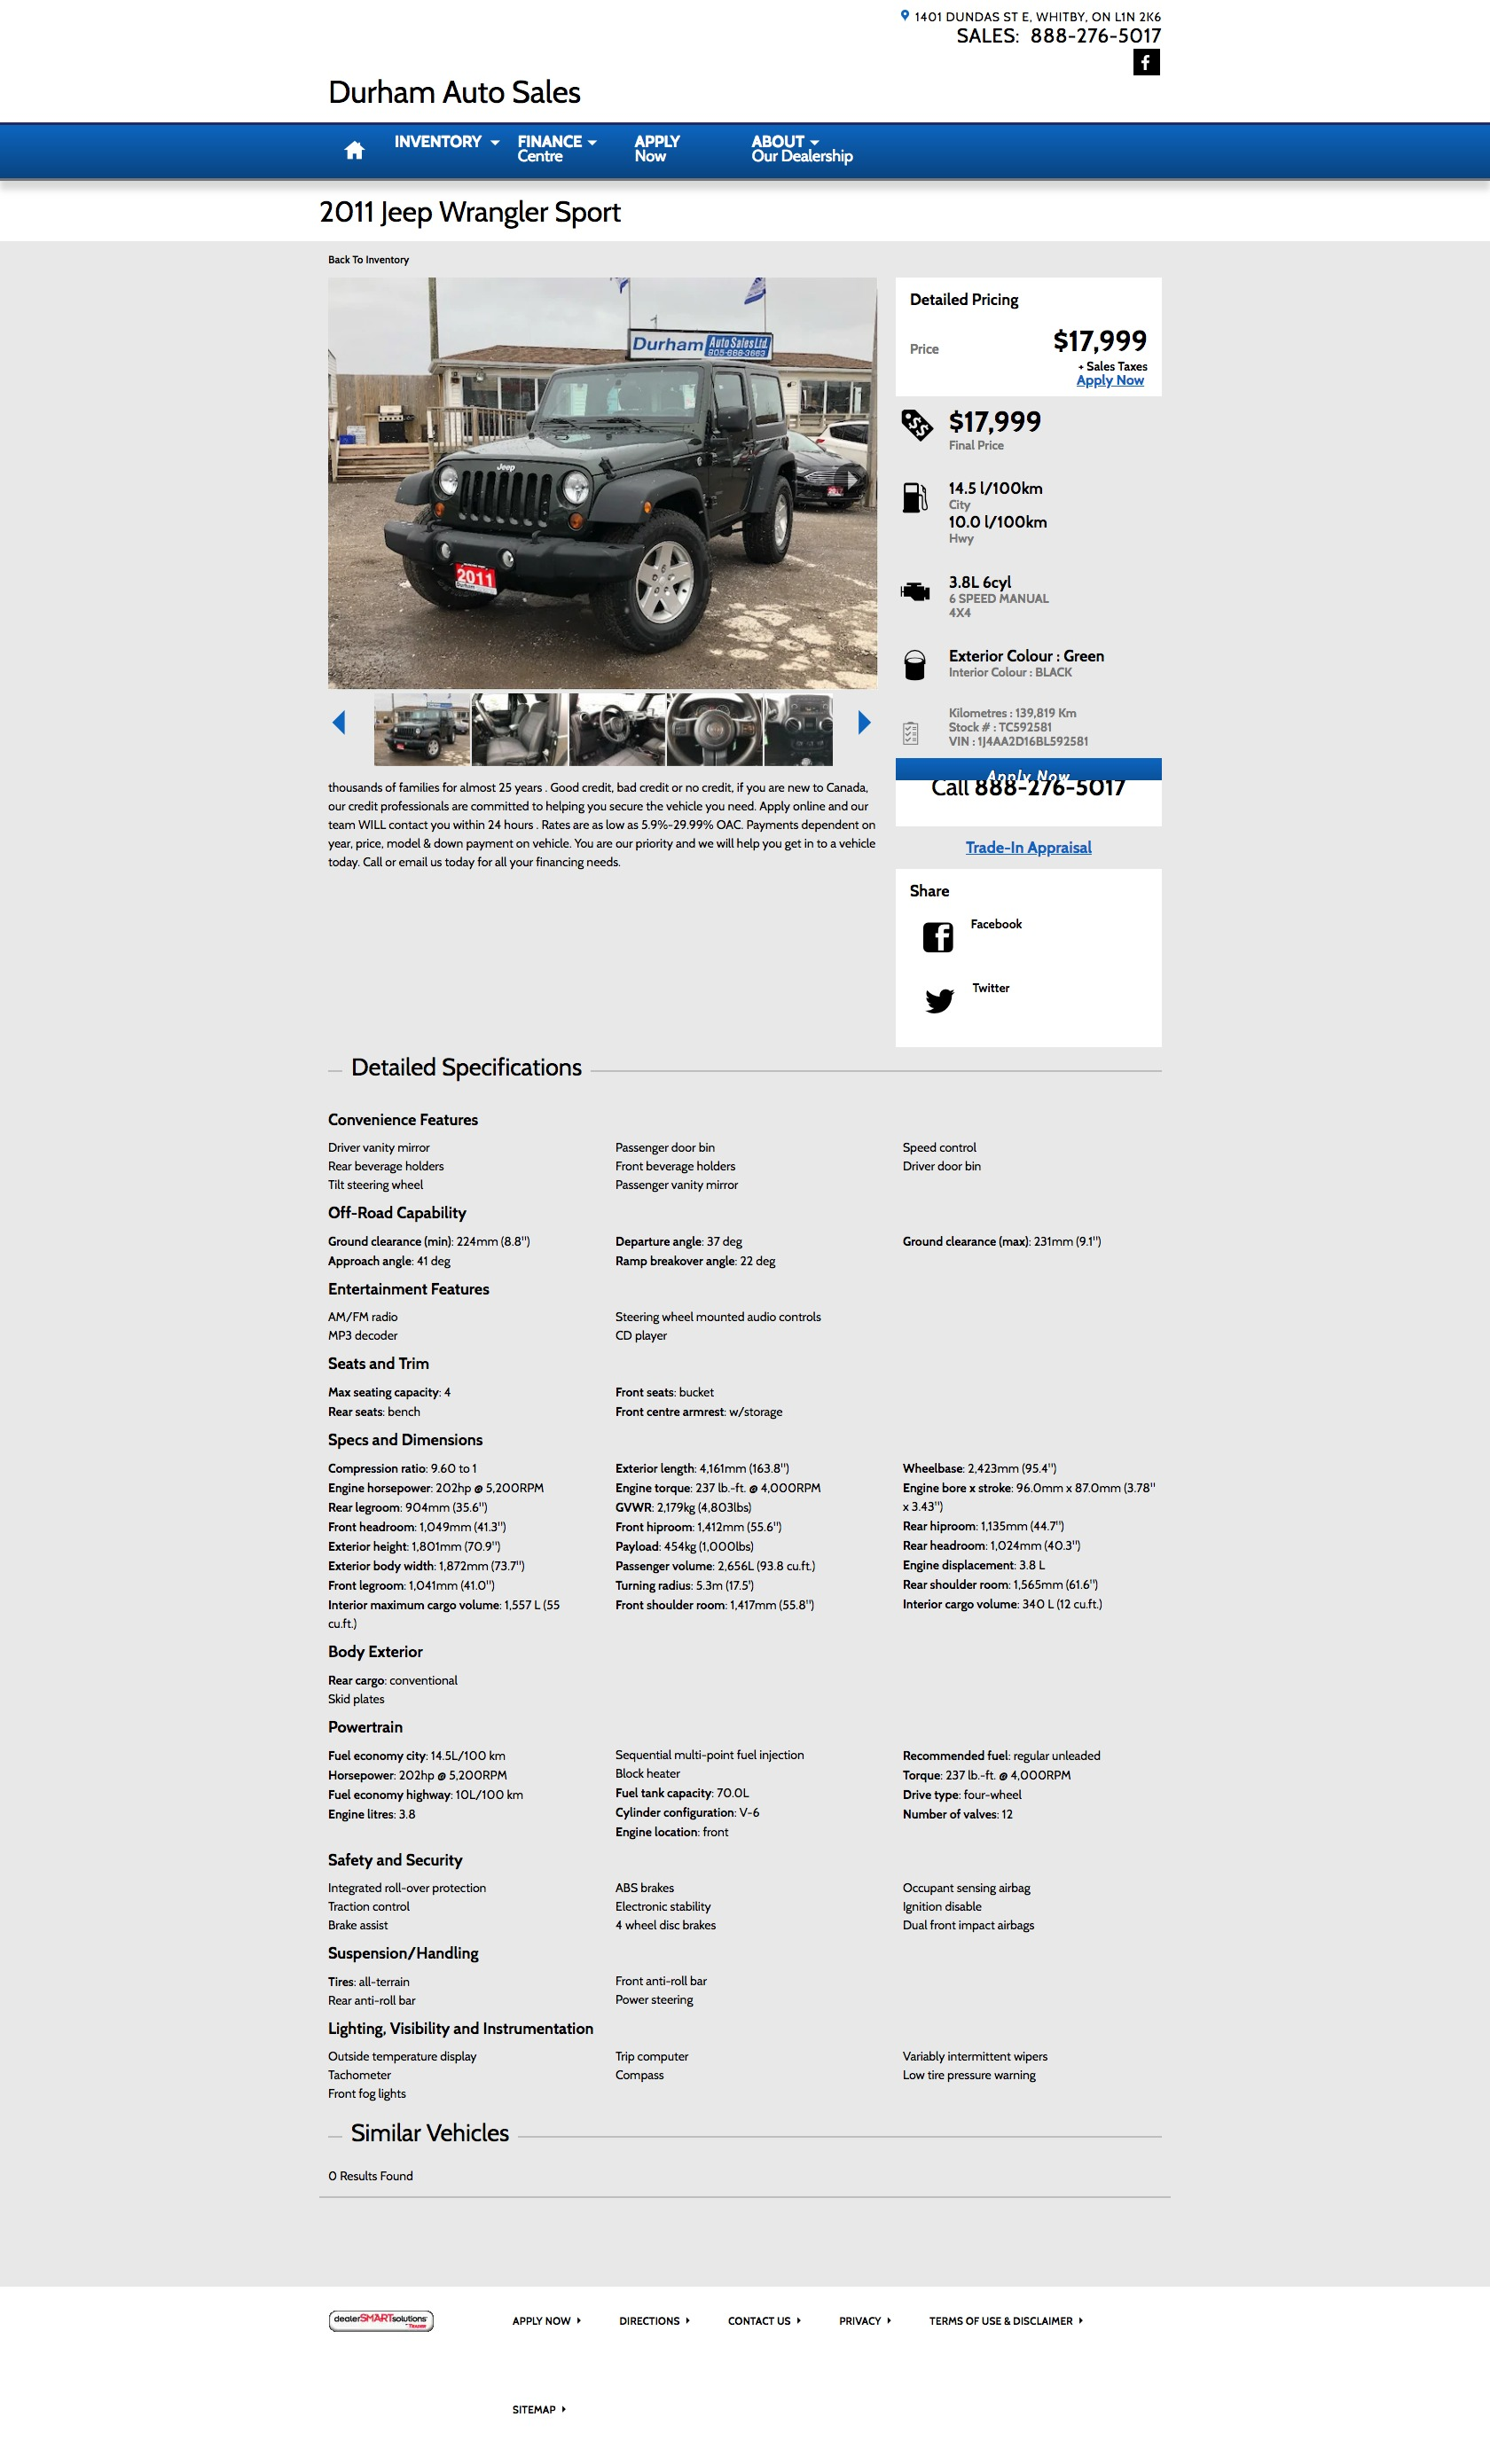car: (858, 711, 872, 737)
